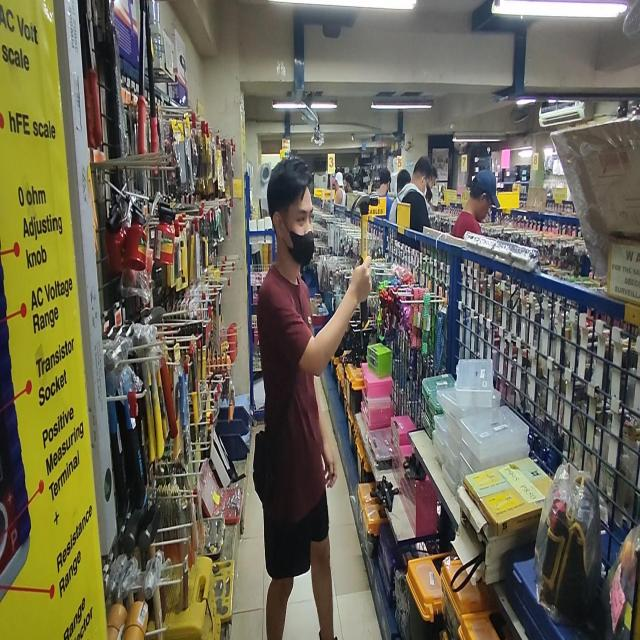hammer: (351, 194, 378, 330)
